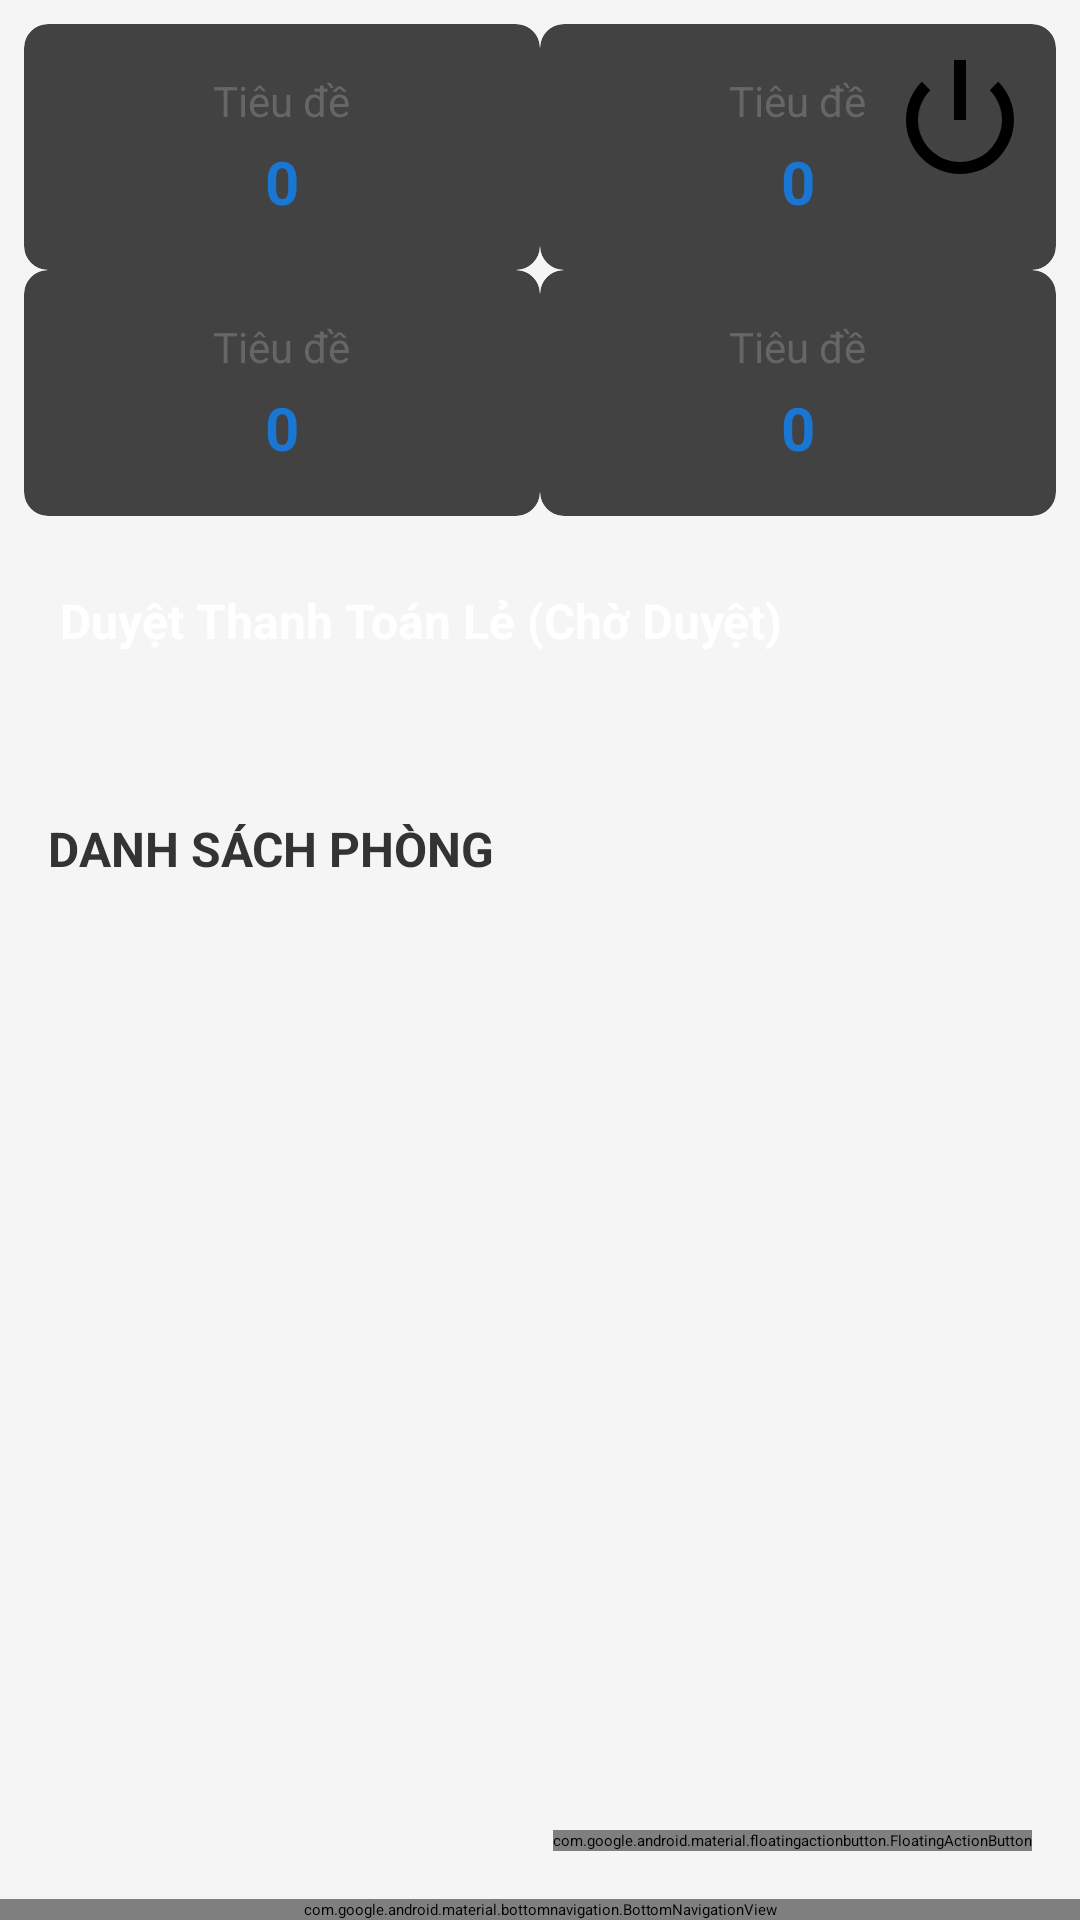

Icon click points for this 1080×1920 phone screenshot, format [x,y]:
Đăng xuất: [960,117]
